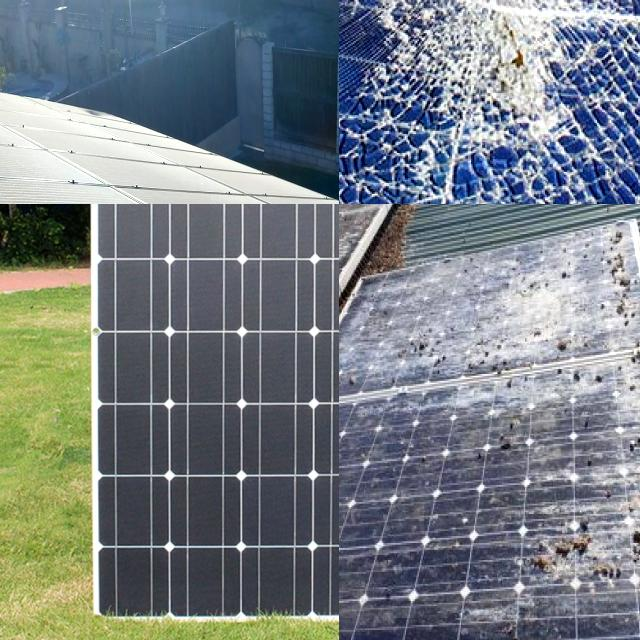bird: (522, 518, 626, 602), (470, 398, 538, 458), (553, 320, 606, 390), (460, 334, 520, 379), (605, 232, 640, 302), (392, 322, 446, 365), (620, 425, 640, 516), (339, 349, 370, 402), (624, 527, 640, 600), (620, 320, 640, 370), (339, 479, 353, 516)
crack: (100, 204, 339, 618)
dust: (0, 153, 154, 204), (170, 148, 271, 204), (0, 104, 93, 159), (0, 81, 29, 204)
hotspot: (395, 0, 586, 139), (422, 0, 640, 67), (339, 0, 452, 117), (339, 127, 483, 204), (339, 5, 410, 134), (518, 137, 640, 204)
